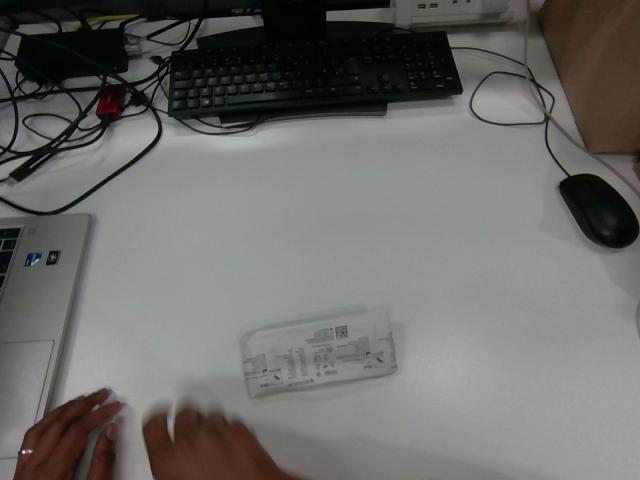syringe: (241, 308, 396, 397)
